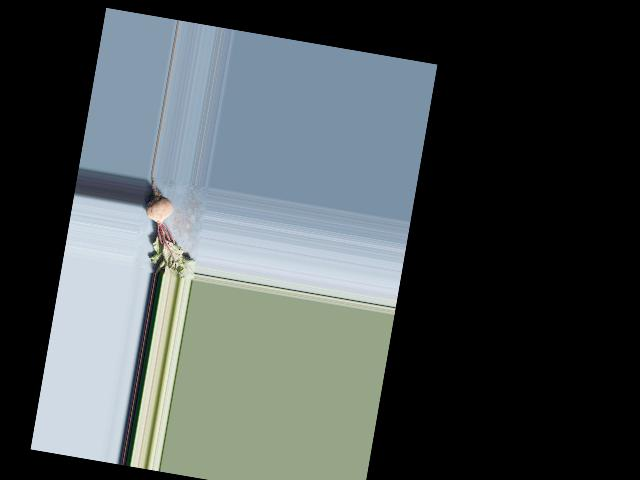beet: (134, 176, 209, 281)
